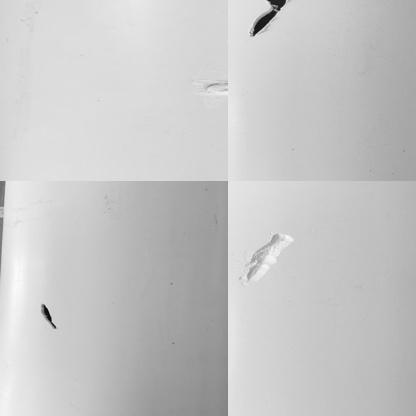kongdong: (246, 1, 291, 38), (35, 300, 59, 332)
sunshang: (240, 230, 293, 284), (196, 76, 228, 98)
